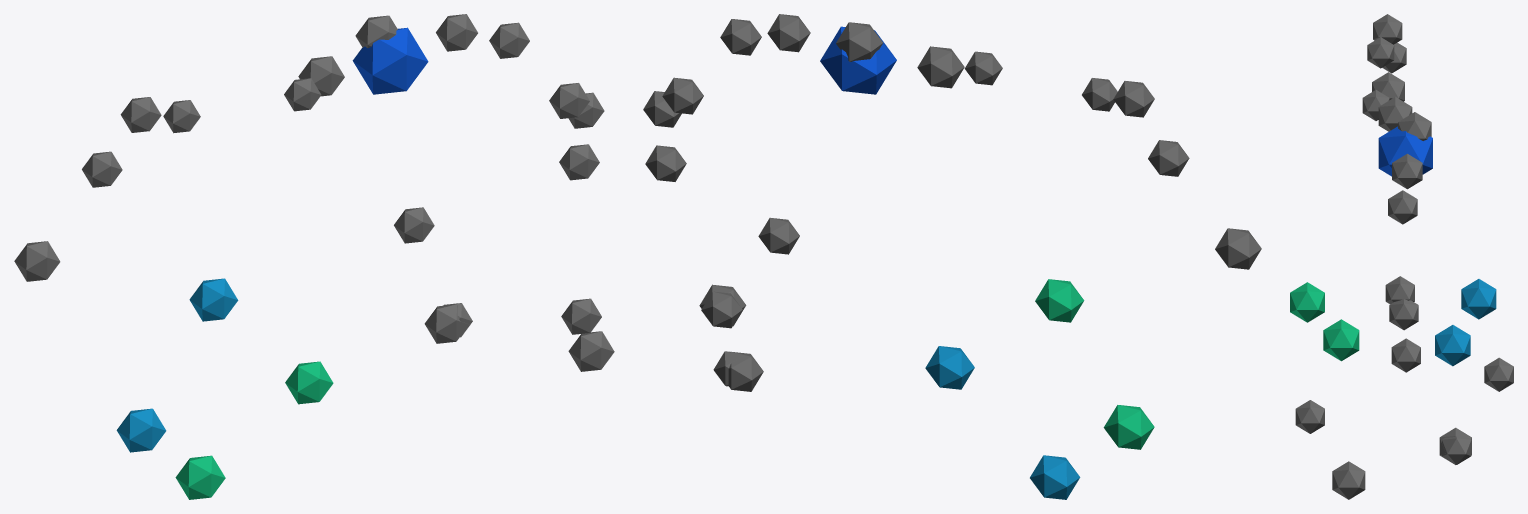
3 renders of one model, left to right at view 1: azimuth 30°, elevation 25°; view 2: azimuth 150°, elevation 25°; view 3: azimuth 270°, elevation 25°, orthographic. The views are drawn at different scales.
Visible parts, largest first — view 1: 02_09_07; view 2: 02_09_07; view 3: 02_09_07.
Part boxes in pixels (x1=…): 02_09_07: x1=14, y1=14, x2=614, y2=499; 02_09_07: x1=643, y1=14, x2=1261, y2=499; 02_09_07: x1=1290, y1=14, x2=1513, y2=499.
Size of the model in its own units: 0.6522 by 0.4195 by 0.255.
